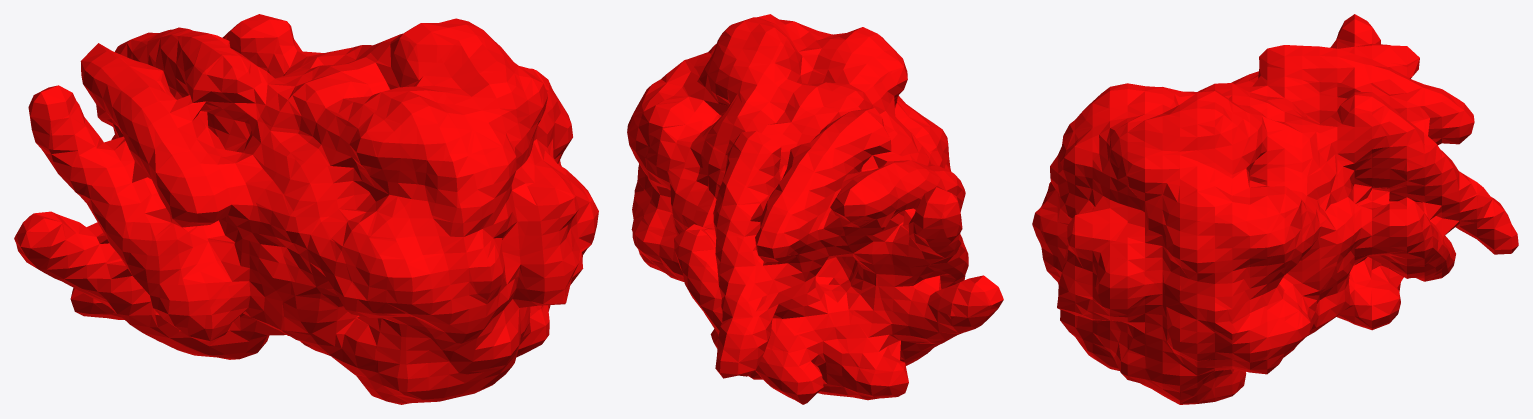
File: mscS_coarse.dae
The picture shows the model from 3 angles, left to right: view 1: azimuth 30°, elevation 25°; view 2: azimuth 150°, elevation 25°; view 3: azimuth 270°, elevation 25°; orthographic projection. The views are drawn at different scales.
Parts seen in each view (by area): view 1: mscS; view 2: mscS; view 3: mscS.
Part boxes in pixels (box(x1,y1,x2,y2)): mscS: box(14, 14, 598, 404); mscS: box(627, 14, 1003, 404); mscS: box(1032, 14, 1518, 404).
Bounding box in the file's own units: 129 × 89.63 × 130.
